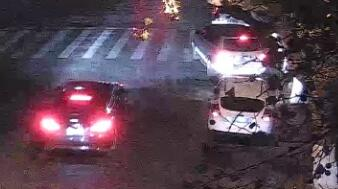car: (31, 78, 125, 156), (206, 76, 276, 140), (189, 23, 272, 76)
